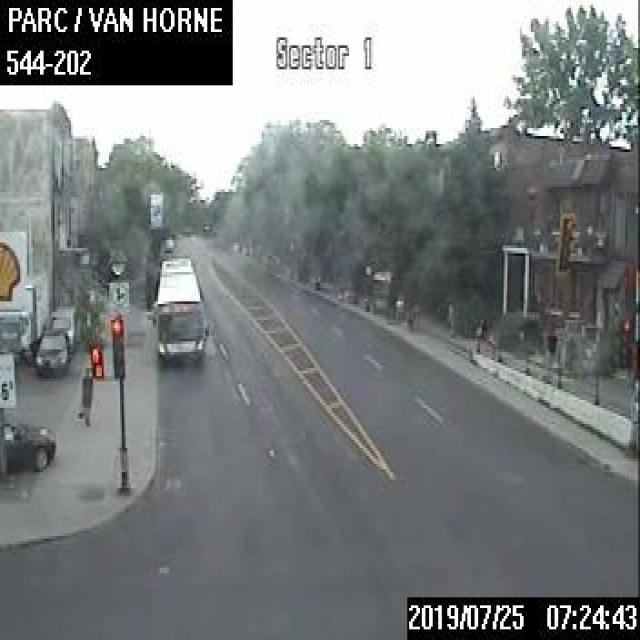bus: (154, 253, 206, 357)
pedestrian: (76, 363, 93, 429)
vehicle: (0, 419, 55, 472), (35, 327, 71, 371), (48, 302, 76, 352)
